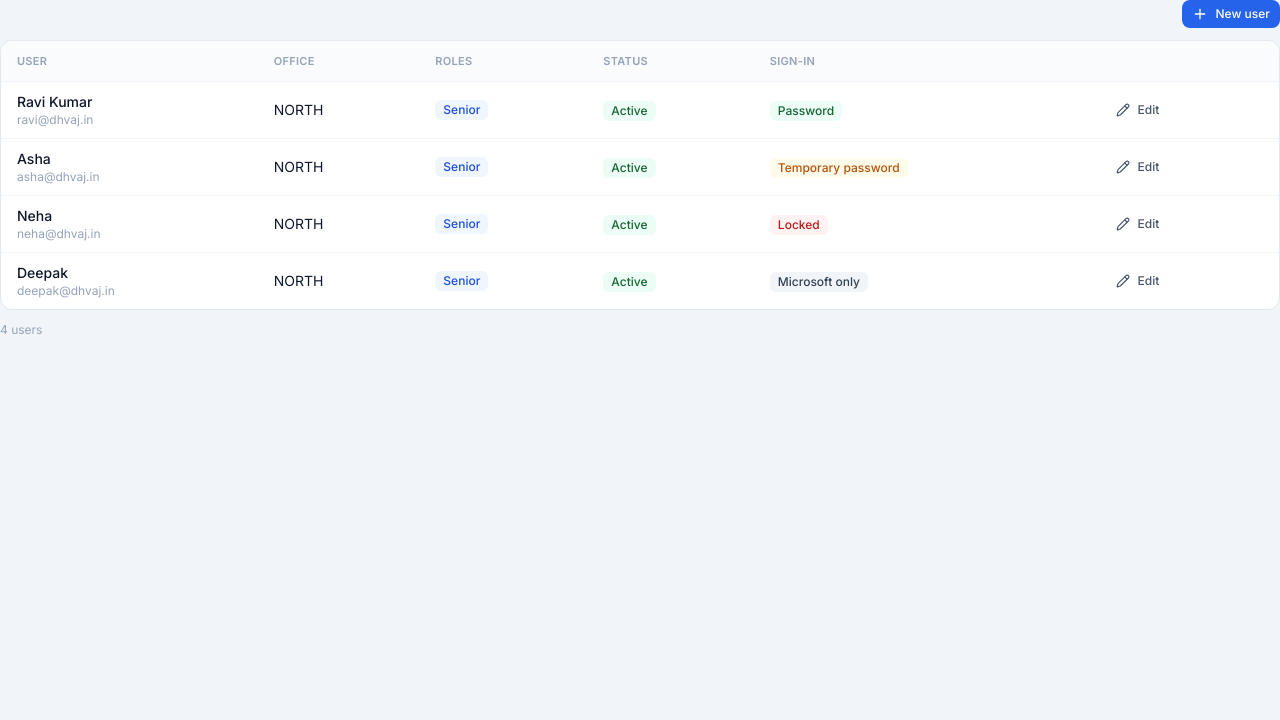
Test: creates a user with a temporary password and shows it once
This screenshot has width=1280, height=720.
Click the button "New user" at (1231, 14), box [1182,0,1279,28]
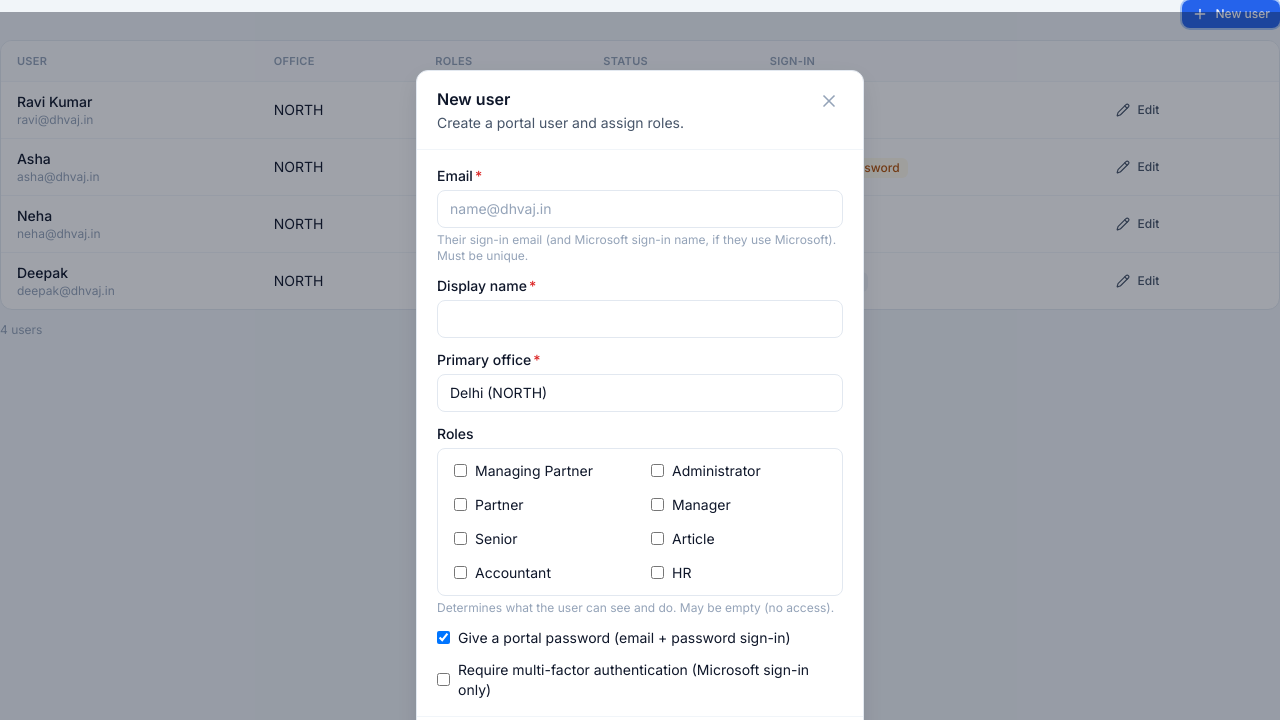
Type "new@dhvaj.in" into the field labelled "Email" at (640, 209), box [437,190,843,228]
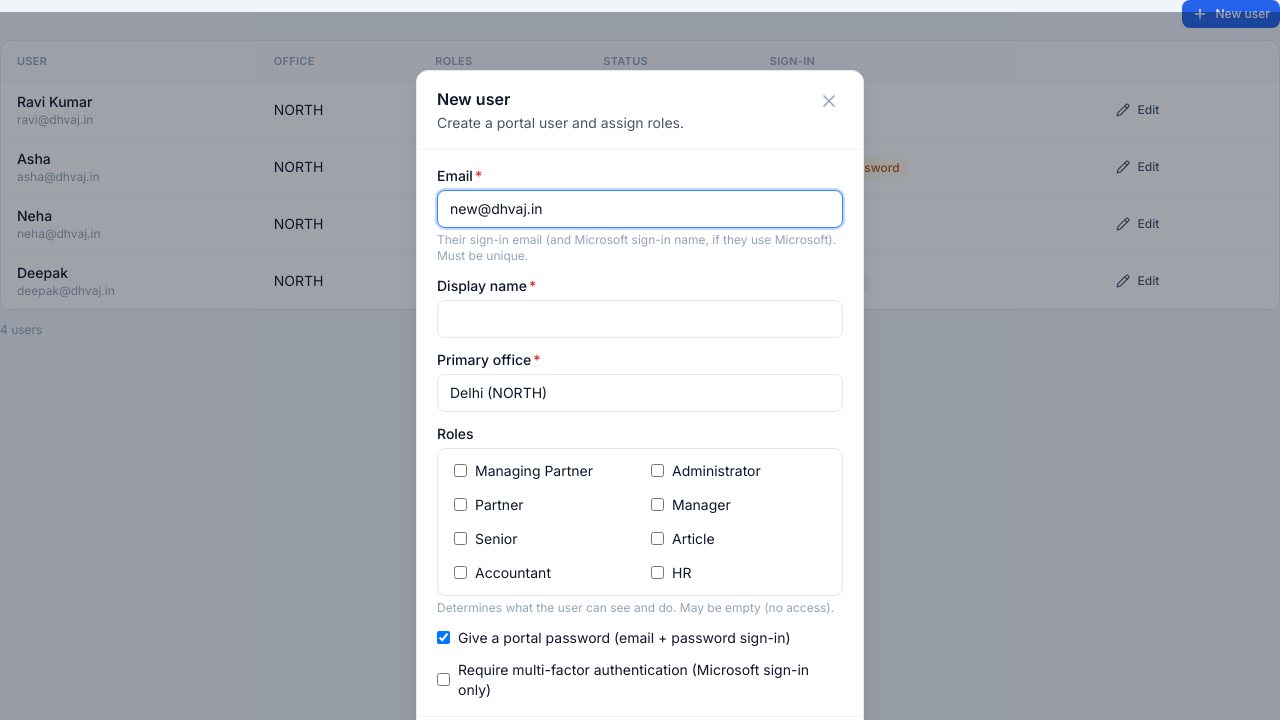
Type "New Person" into the field labelled "Display name*" at (640, 319), box [437,300,843,338]
(page scrolled)
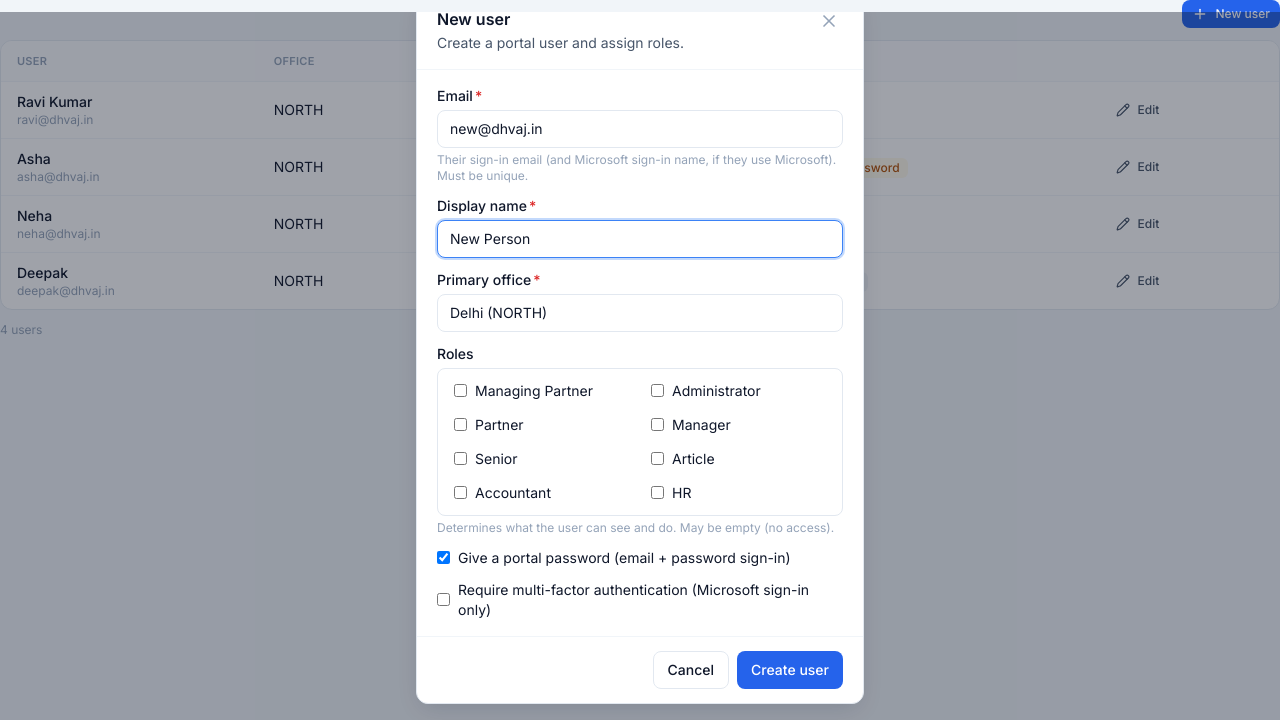
Now the checkbox labelled "Give a portal password (email + password sign-in)" is checked, box [437,551,450,564]
Click the button "Create user" at (790, 670), box [737,651,843,689]
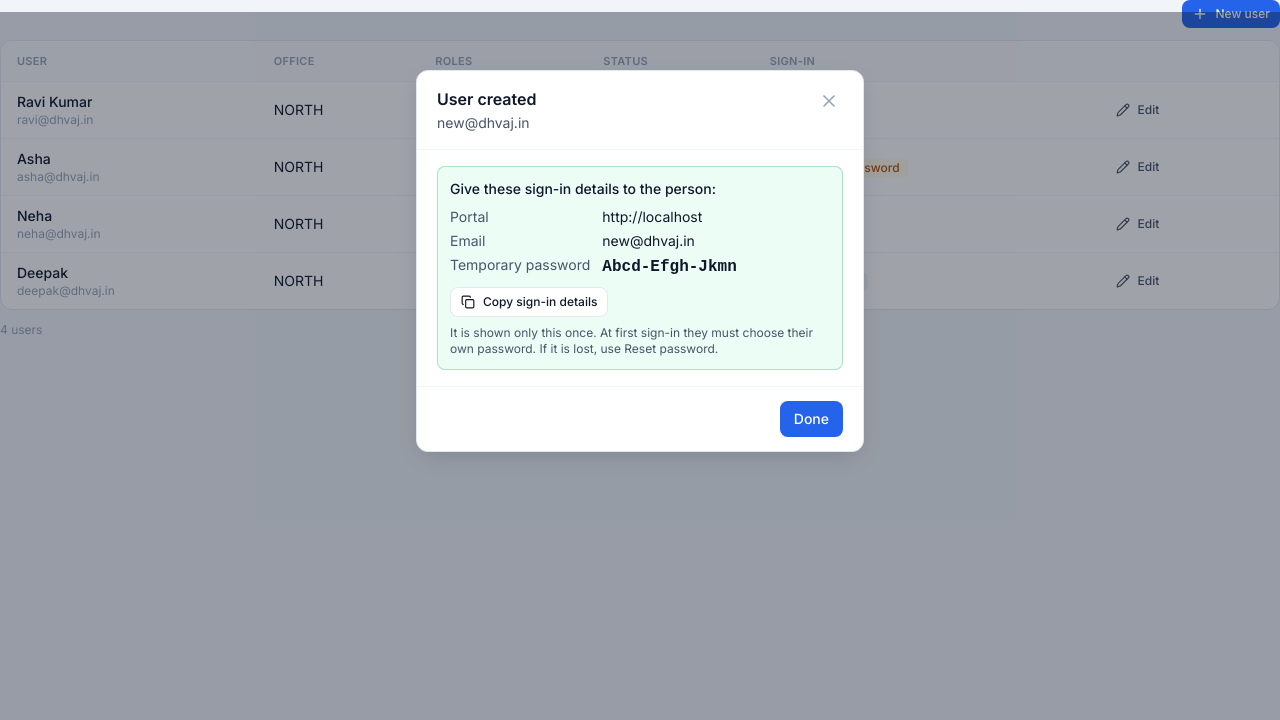
Now the text with test id "temporary-password" reads "Abcd-Efgh-Jkmn", box [602,258,737,276]
Now the heading "User created" is shown, box [437,87,536,111]
Now the button "Copy sign-in details" is shown, box [450,287,608,317]
